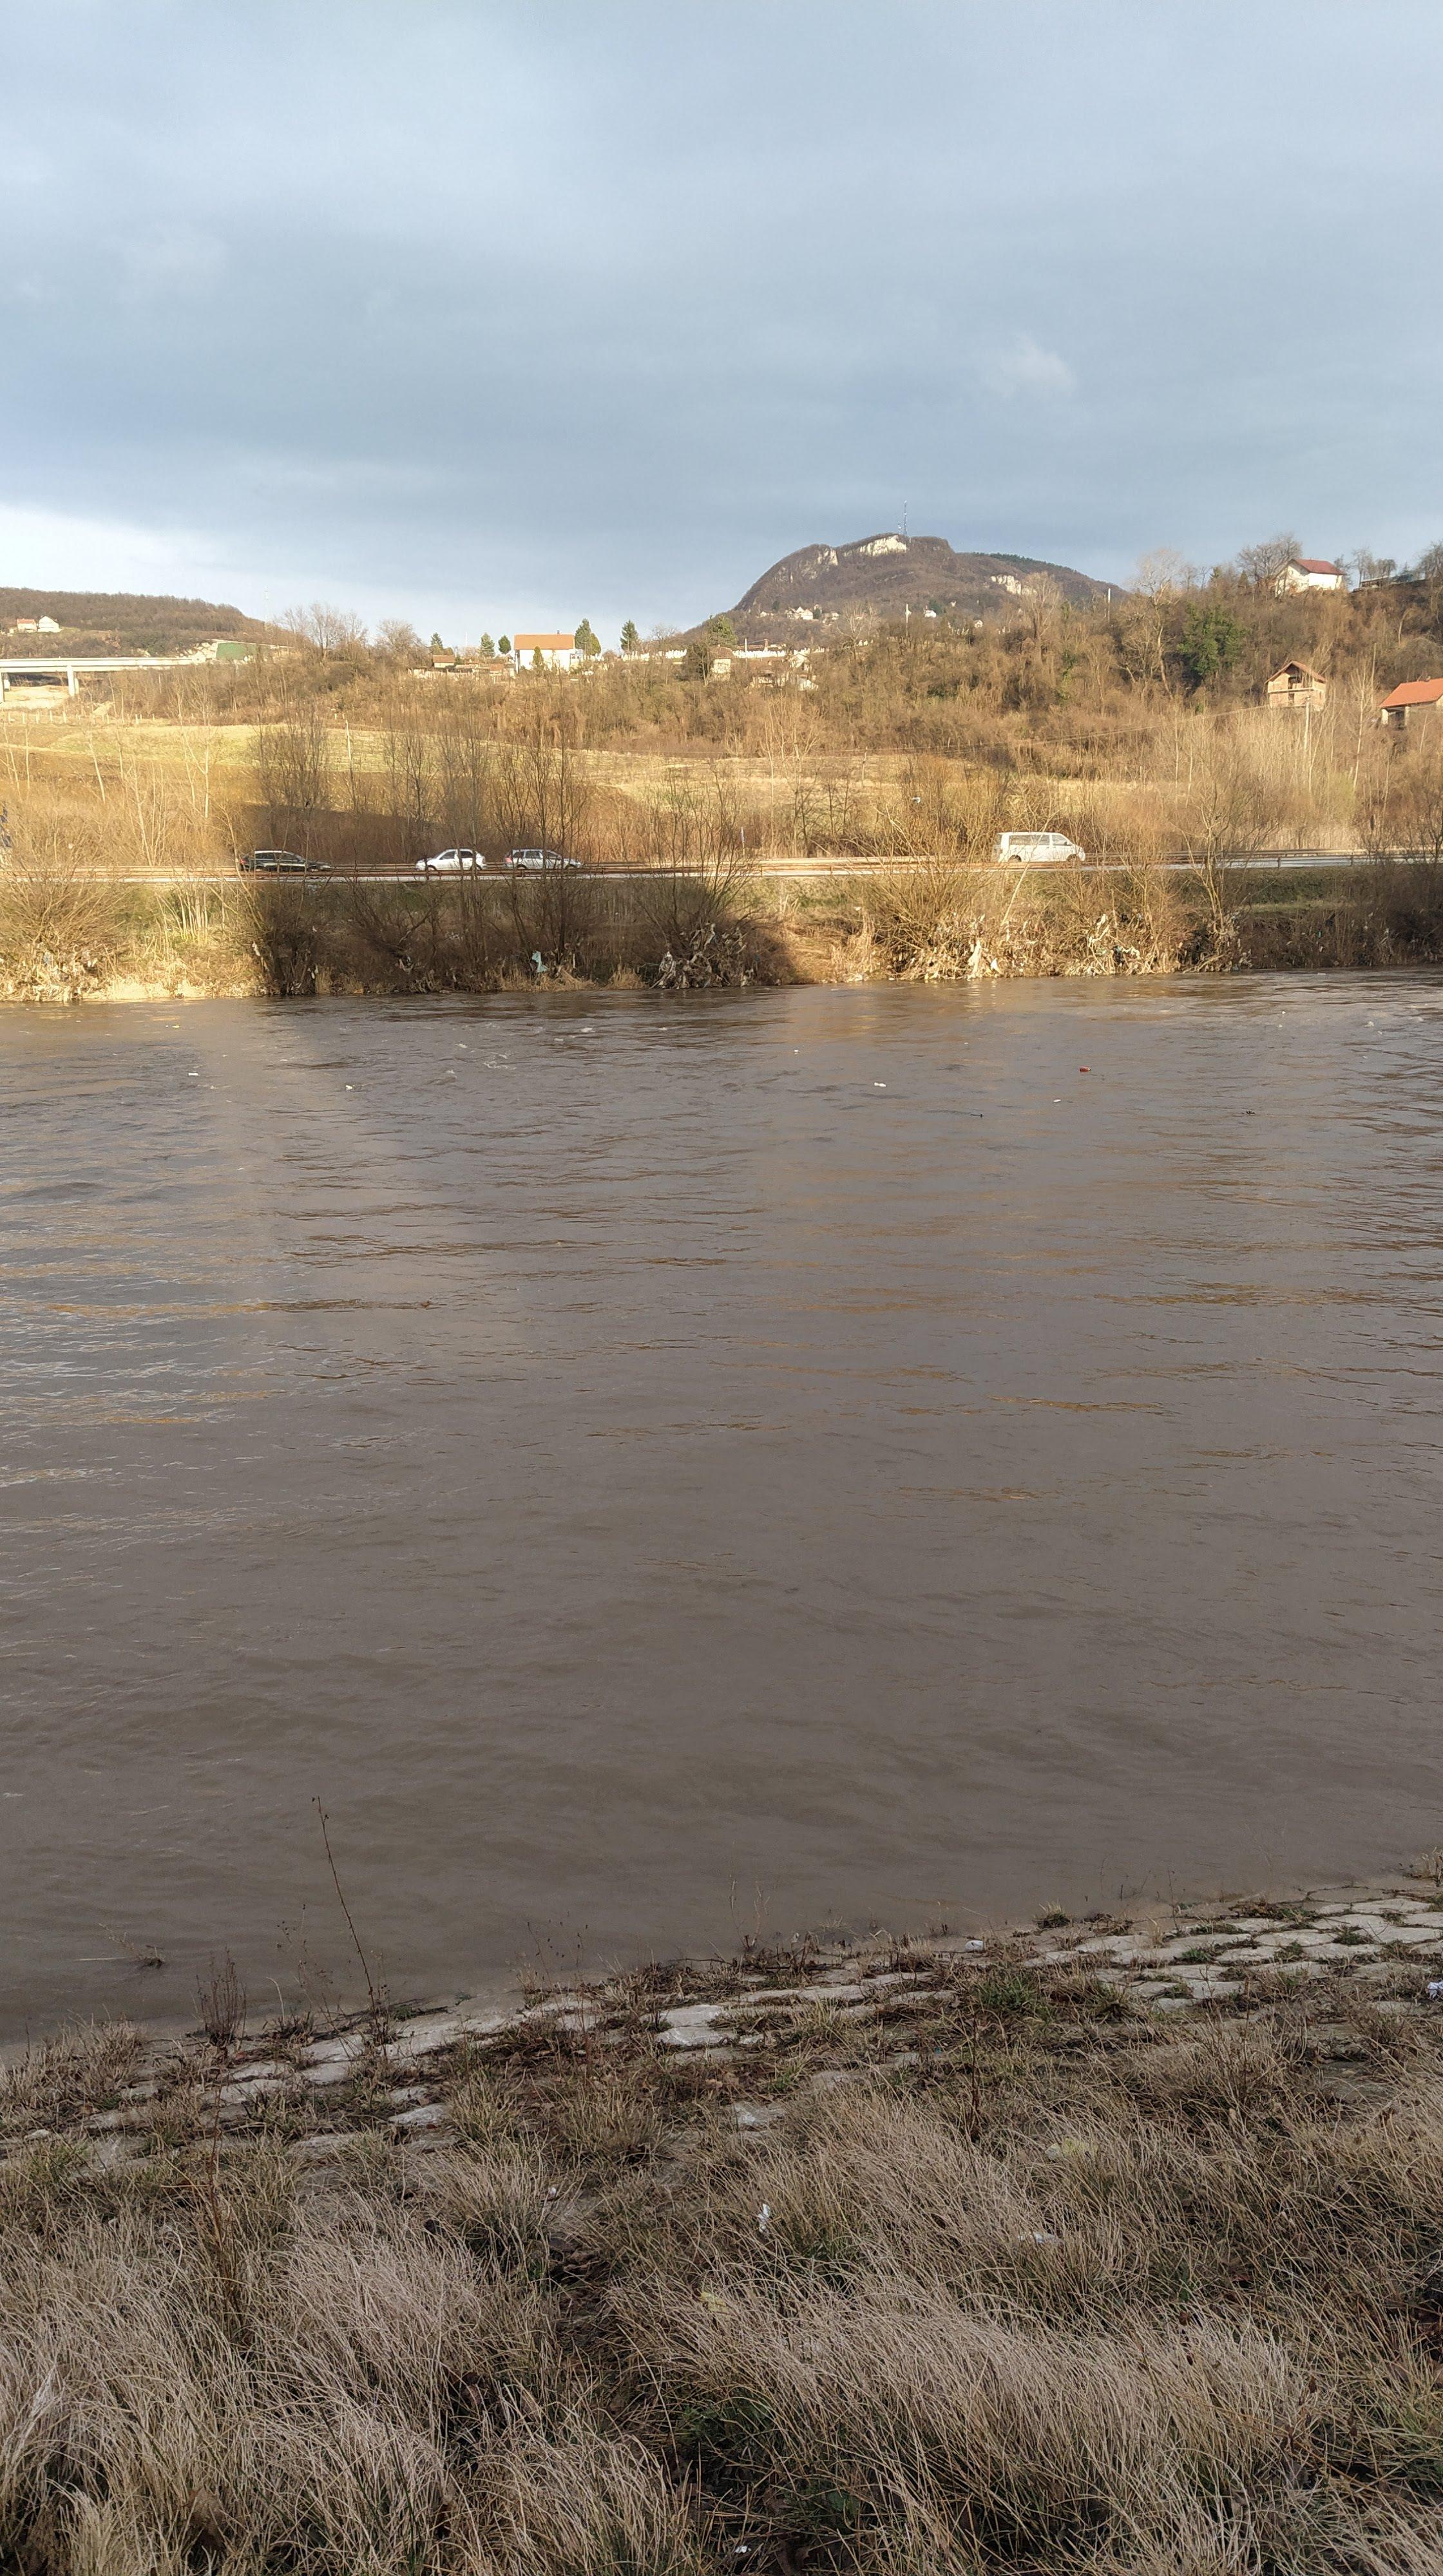Plastic Bottle: (345, 1085, 354, 1090), (554, 1037, 563, 1042), (873, 1083, 885, 1086), (1078, 1067, 1091, 1070), (189, 1072, 197, 1076), (832, 987, 839, 991), (1053, 1099, 1061, 1102), (1317, 971, 1324, 975), (1377, 1031, 1381, 1035)
